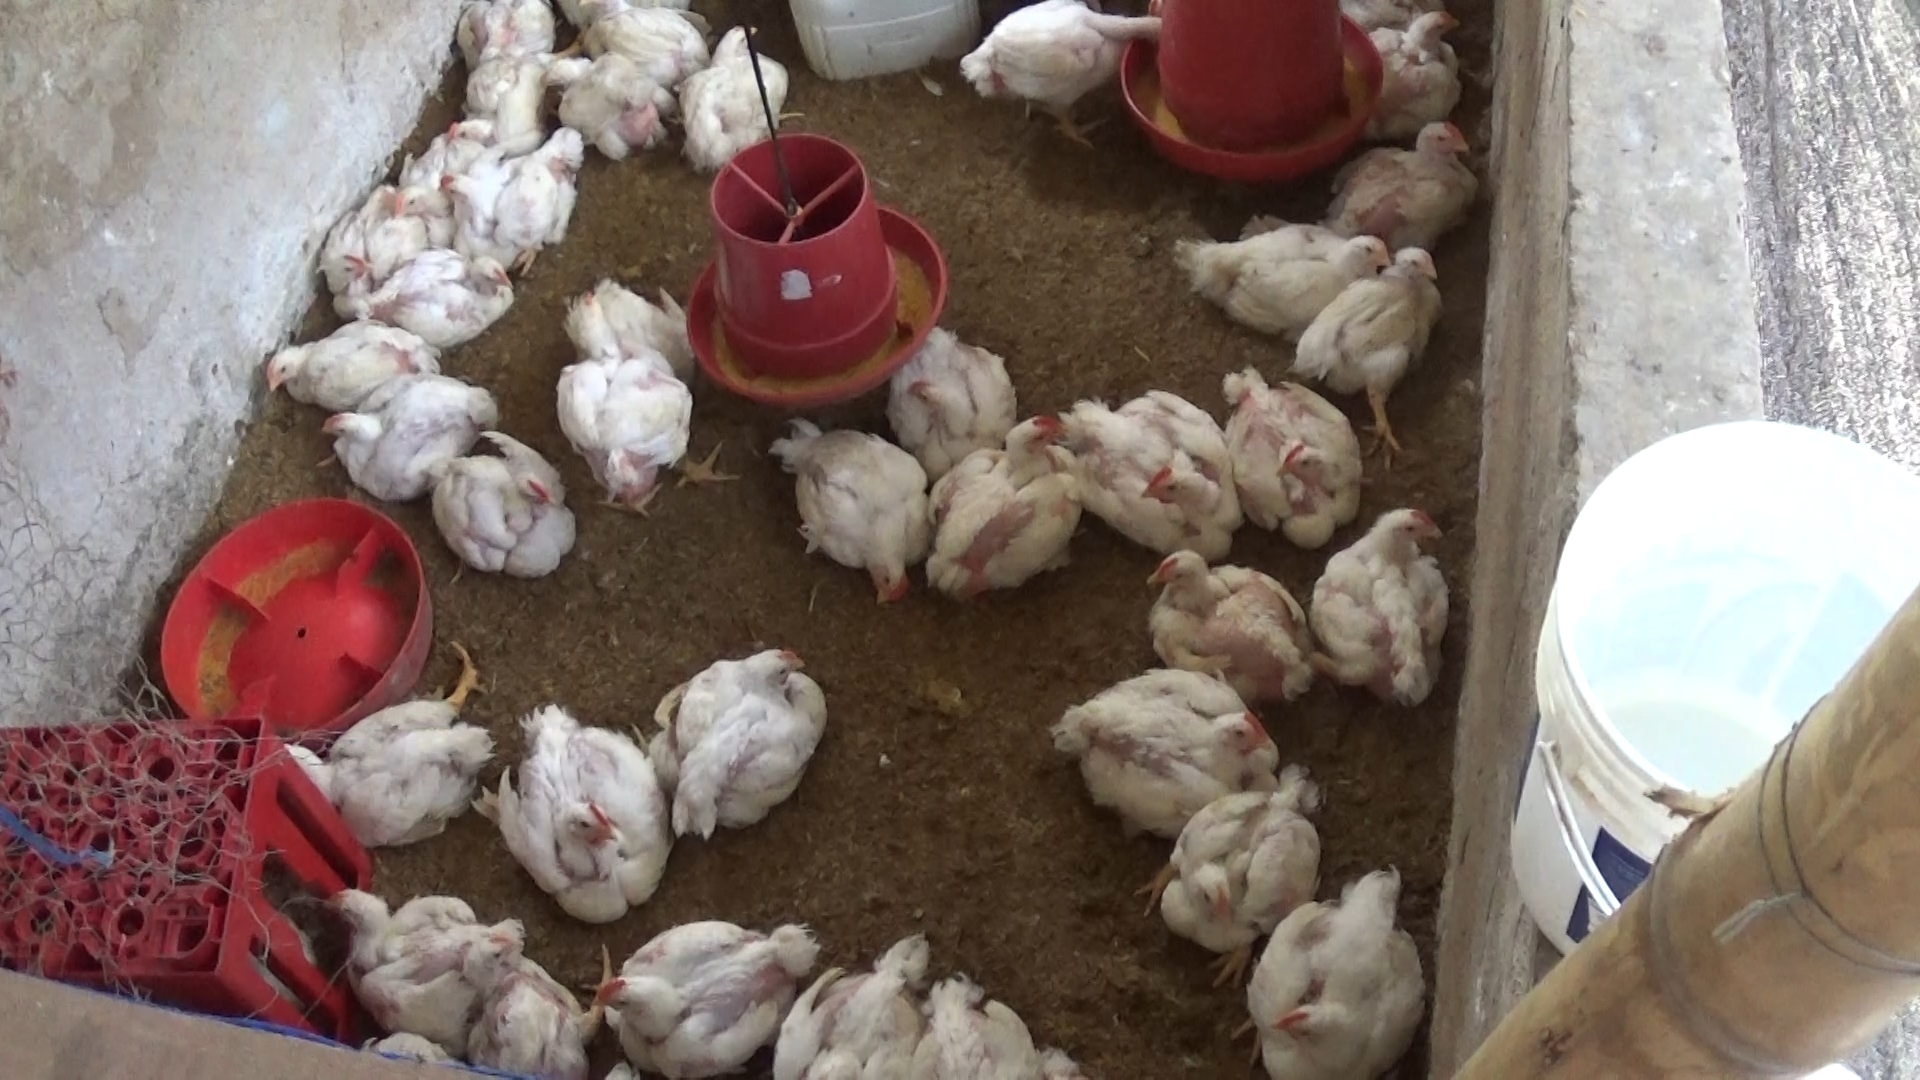Pollos: (1230, 857, 1462, 1073), (465, 696, 680, 916), (293, 640, 508, 847), (637, 632, 843, 839), (1139, 764, 1335, 975), (1040, 658, 1280, 825), (591, 902, 822, 1065), (1296, 239, 1461, 458), (956, 0, 1178, 148), (530, 349, 705, 535), (1313, 497, 1477, 696), (742, 924, 940, 1080), (1060, 384, 1234, 558), (909, 413, 1077, 589), (775, 409, 920, 603), (1137, 549, 1316, 702), (1225, 359, 1367, 547), (1168, 214, 1386, 336), (415, 434, 578, 585), (316, 377, 491, 497), (1317, 105, 1487, 228), (258, 316, 451, 422), (676, 17, 796, 179), (367, 911, 517, 1038), (460, 948, 600, 1077), (430, 156, 589, 268), (911, 978, 1083, 1080), (558, 276, 708, 390), (1335, 11, 1480, 123), (897, 318, 1015, 454), (360, 239, 527, 332), (310, 185, 418, 313), (554, 55, 670, 166), (574, 0, 709, 87), (309, 876, 462, 945), (435, 63, 542, 162), (458, 0, 564, 80), (389, 166, 468, 235)
